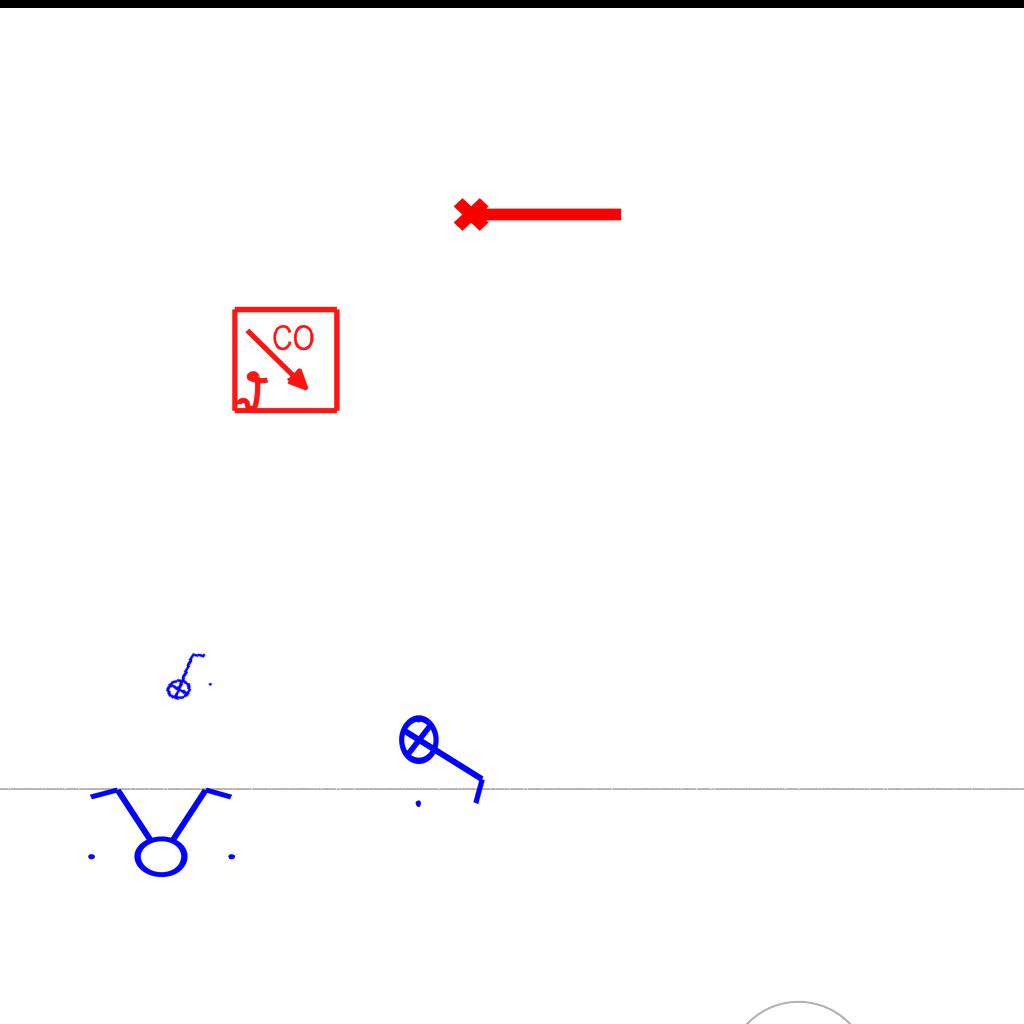ASR_Ansaugoeffnung: (451, 189, 627, 235)
Ausschalter_beleuchtet: (397, 701, 493, 813), (153, 646, 217, 704)
ROA_Rauchmelder_optisch_mit_Signalgeber_(Sockelsirene): (230, 305, 343, 418)
Serienschalter: (76, 783, 244, 879)
